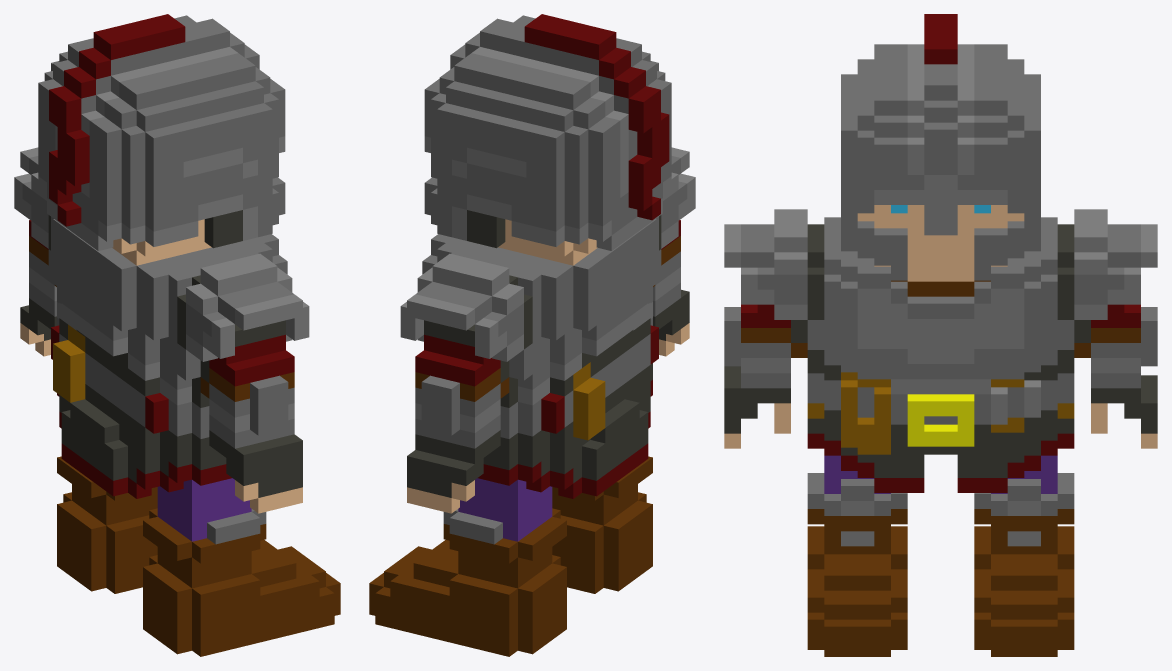
The model's file is player_phase3.fbx.
The picture shows the model from 3 angles, left to right: view 1: azimuth 30°, elevation 25°; view 2: azimuth 150°, elevation 25°; view 3: azimuth 270°, elevation 25°; orthographic projection. The views are drawn at different scales.
Visible parts, largest first — view 1: Untitled; view 2: Untitled; view 3: Untitled.
Boxes of the visible parts, <box> form: Untitled: <box>14,14,340,656</box>; Untitled: <box>369,14,695,656</box>; Untitled: <box>724,14,1157,656</box>.
Size of the model in its own units: 1500 by 2600 by 3700.
Materials: 1 (1 with a texture image).
